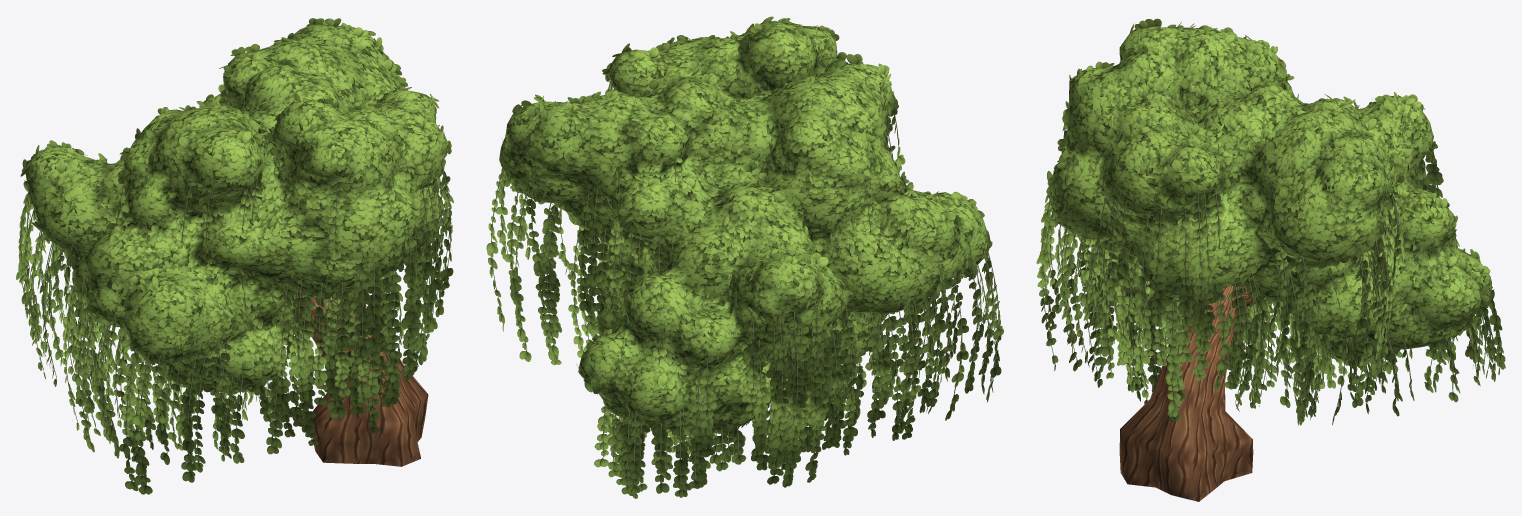
Rendered from willow_v2.gltf.
The picture shows the model from 3 angles, left to right: view 1: azimuth 30°, elevation 25°; view 2: azimuth 150°, elevation 25°; view 3: azimuth 270°, elevation 25°; orthographic projection.
Visible parts, largest first — view 1: willow_v2_leaves_LOD0, willow_v2_volume_LOD0, willow_v2_trunk_LOD0, willow_v2_stems_LOD0; view 2: willow_v2_volume_LOD0, willow_v2_leaves_LOD0, willow_v2_stems_LOD0; view 3: willow_v2_leaves_LOD0, willow_v2_volume_LOD0, willow_v2_trunk_LOD0, willow_v2_stems_LOD0.
Part boxes in pixels (left/top/right/bottom): willow_v2_leaves_LOD0: left=16, top=18, right=453, bottom=494; willow_v2_volume_LOD0: left=25, top=24, right=448, bottom=389; willow_v2_trunk_LOD0: left=298, top=296, right=428, bottom=466; willow_v2_stems_LOD0: left=19, top=88, right=451, bottom=483; willow_v2_volume_LOD0: left=499, top=21, right=988, bottom=433; willow_v2_leaves_LOD0: left=486, top=16, right=1003, bottom=498; willow_v2_stems_LOD0: left=491, top=77, right=999, bottom=488; willow_v2_leaves_LOD0: left=1036, top=18, right=1505, bottom=425; willow_v2_volume_LOD0: left=1049, top=27, right=1491, bottom=359; willow_v2_trunk_LOD0: left=1119, top=284, right=1264, bottom=501; willow_v2_stems_LOD0: left=1042, top=129, right=1501, bottom=414.
Size of what is drawn, in the model's own units: 11.62 by 10.68 by 11.92.
4 materials, 3 textured.
